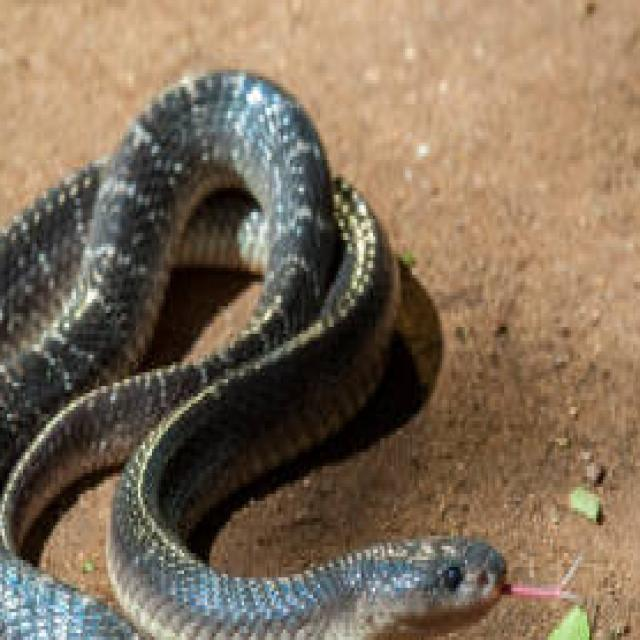Snake: (0, 62, 514, 640)
